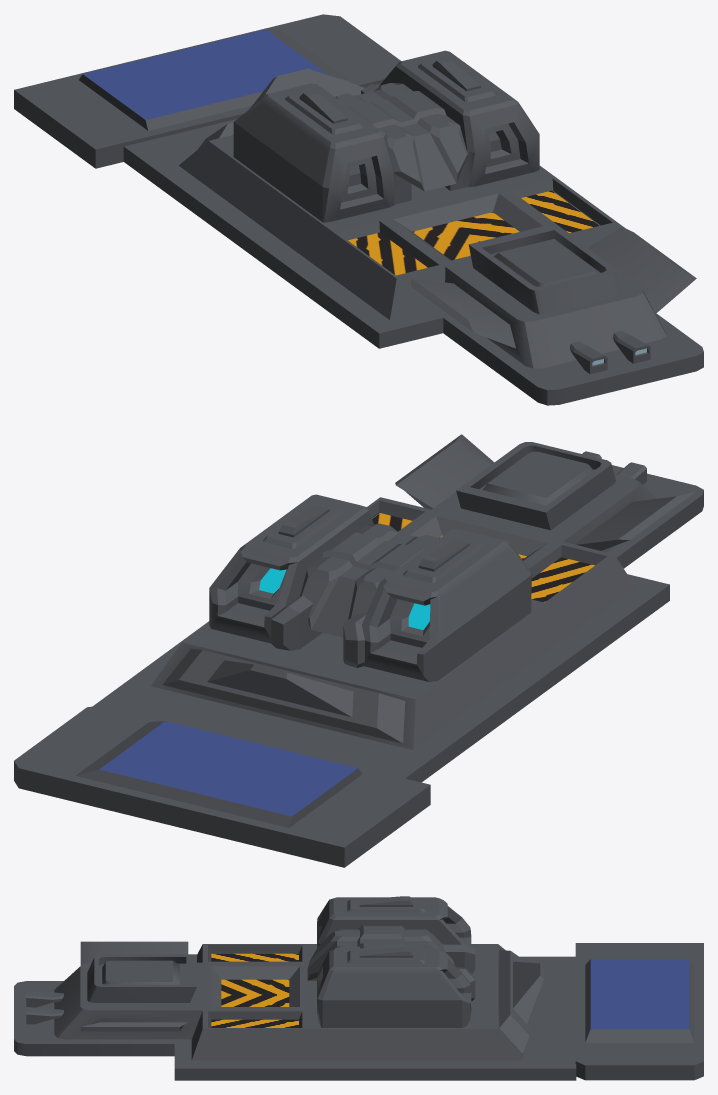
The model's file is ship_roof.fbx.
3 renders of one model, top to bottom at view 1: azimuth 30°, elevation 25°; view 2: azimuth 150°, elevation 25°; view 3: azimuth 270°, elevation 25°, orthographic. The views are drawn at different scales.
Visible parts, largest first — view 1: roof; view 2: roof; view 3: roof.
Boxes of the visible parts, <box> form: roof: <box>14,14,703,405</box>; roof: <box>14,434,703,867</box>; roof: <box>14,896,703,1080</box>.
Bounding box in the file's own units: 1418 × 542 × 3367.
